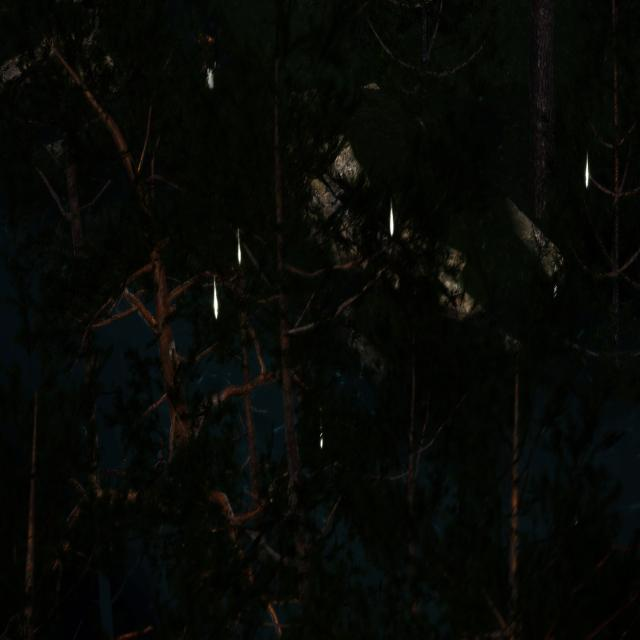Human: (202, 34, 220, 112)
